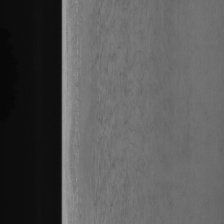silk_spot: (86, 2, 149, 220)
